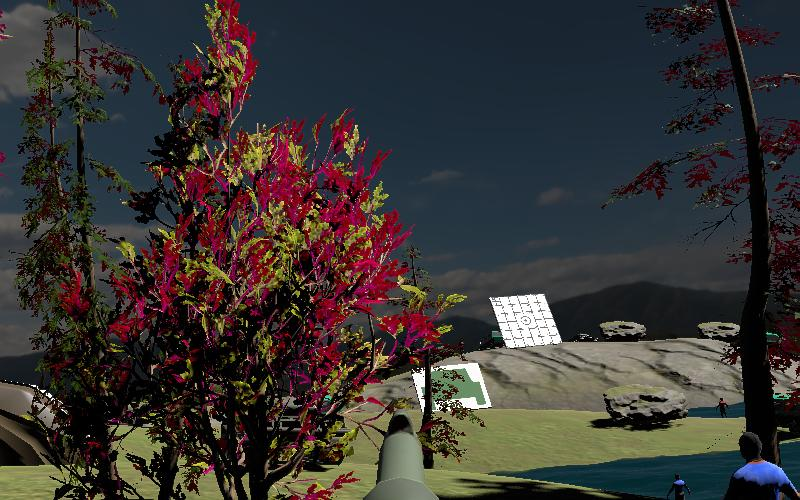Human: (716, 429, 800, 500), (664, 470, 693, 499)
car: (770, 387, 800, 439)
